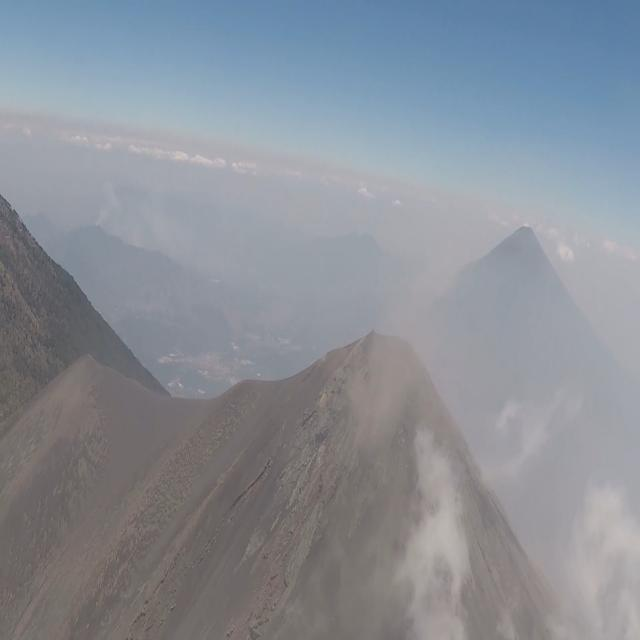Summit: (208, 301, 542, 640)
